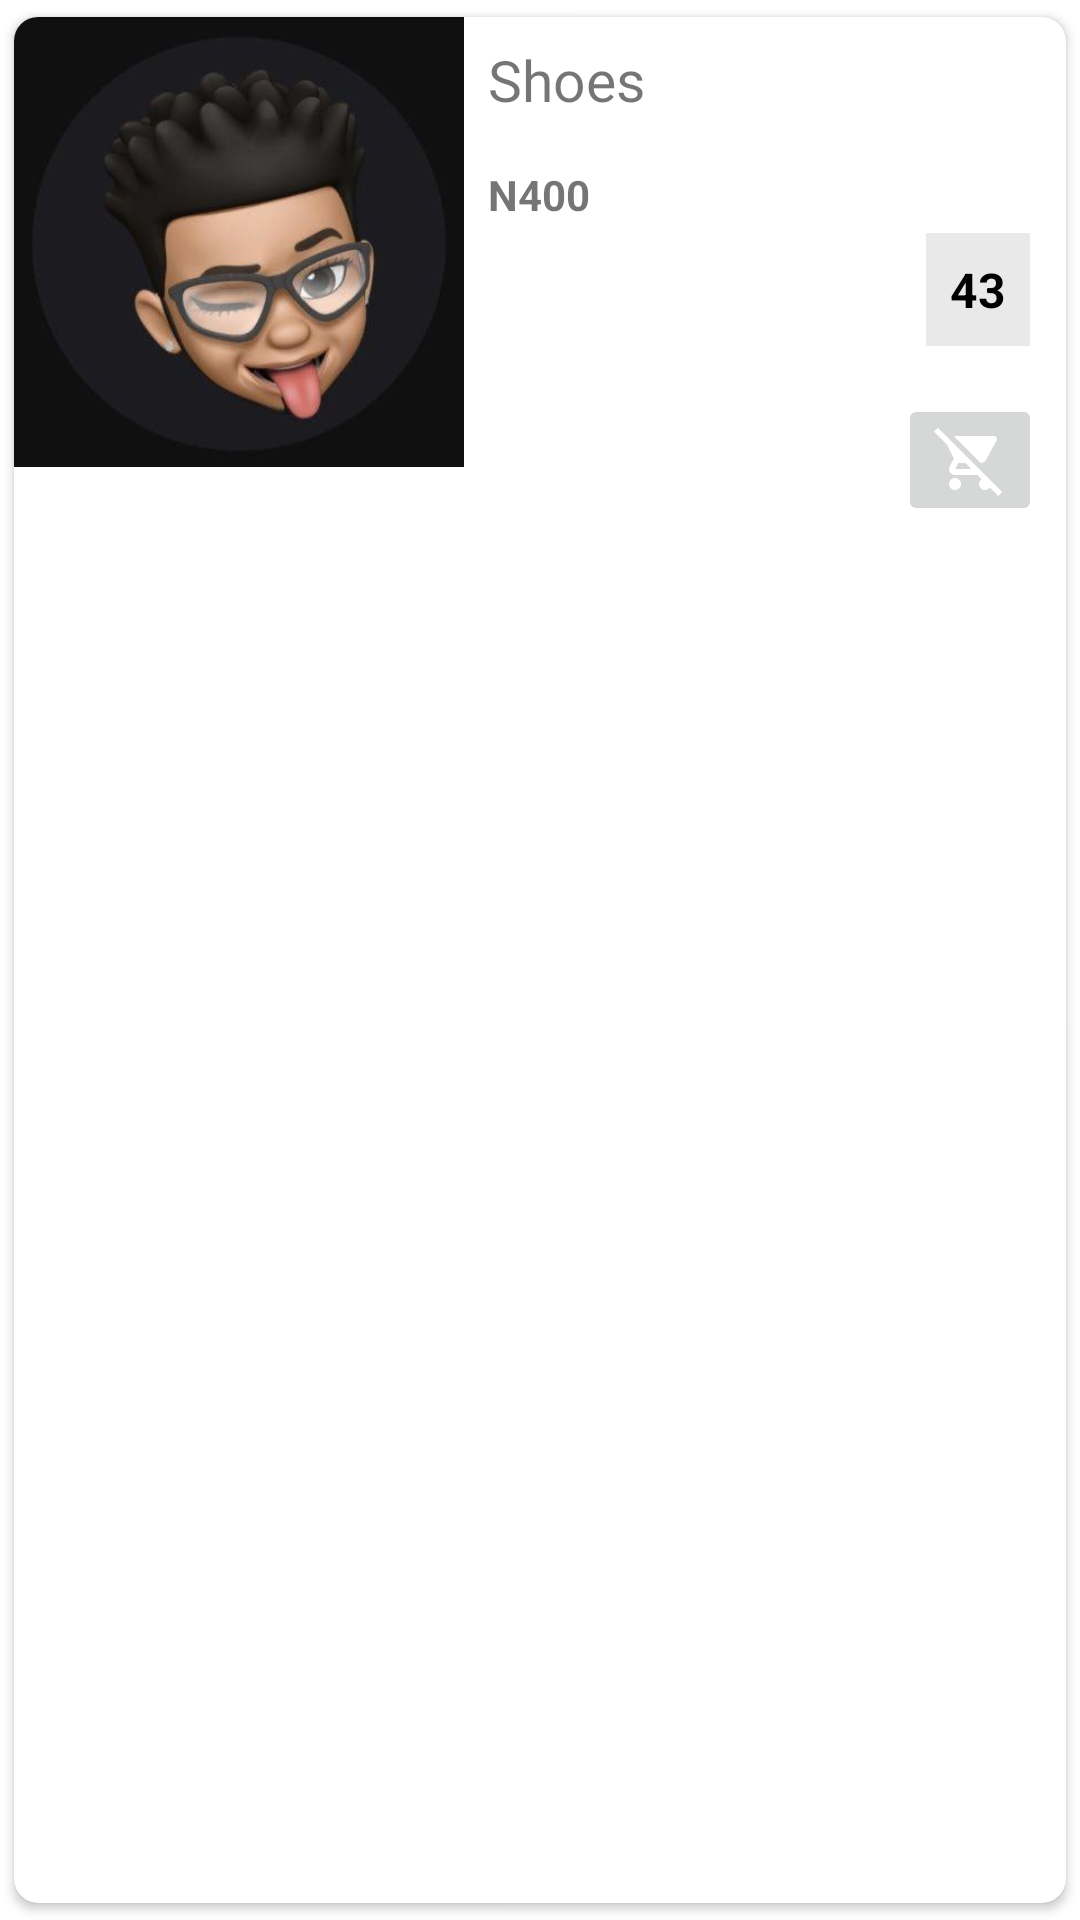

Where icons sit on this 1080 x 1920 app screen, as (x1, y1, x2, y2):
remove shopping cart: (910, 412, 1030, 508)
